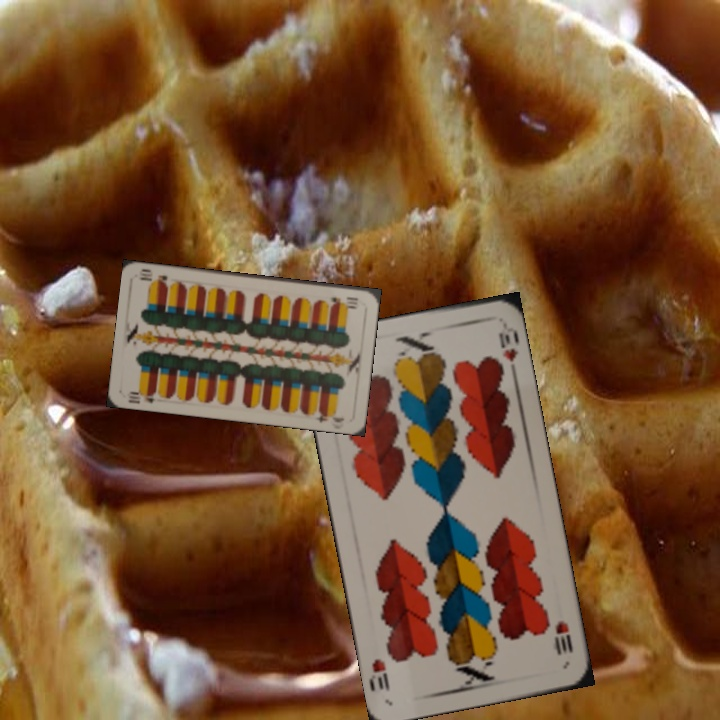E10: (124, 387, 159, 406), (327, 293, 361, 309)
H10: (550, 616, 576, 658)
